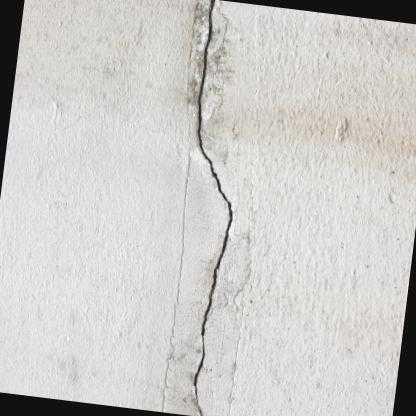crack: (191, 0, 232, 414)
